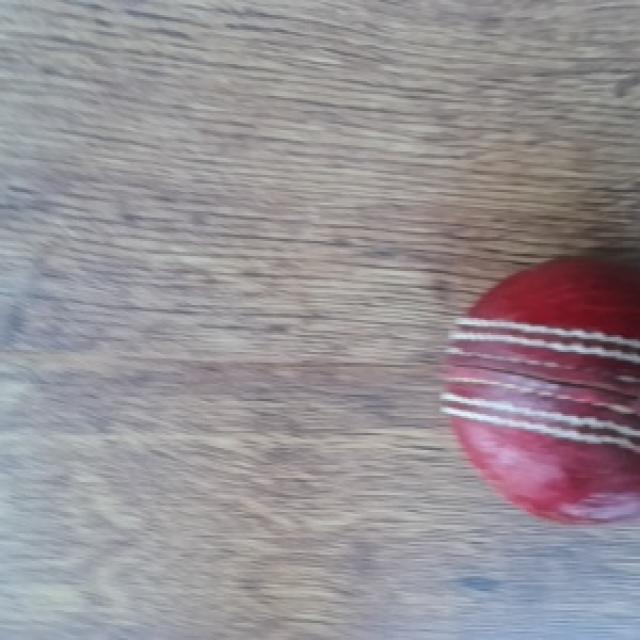ball: (442, 267, 634, 526)
